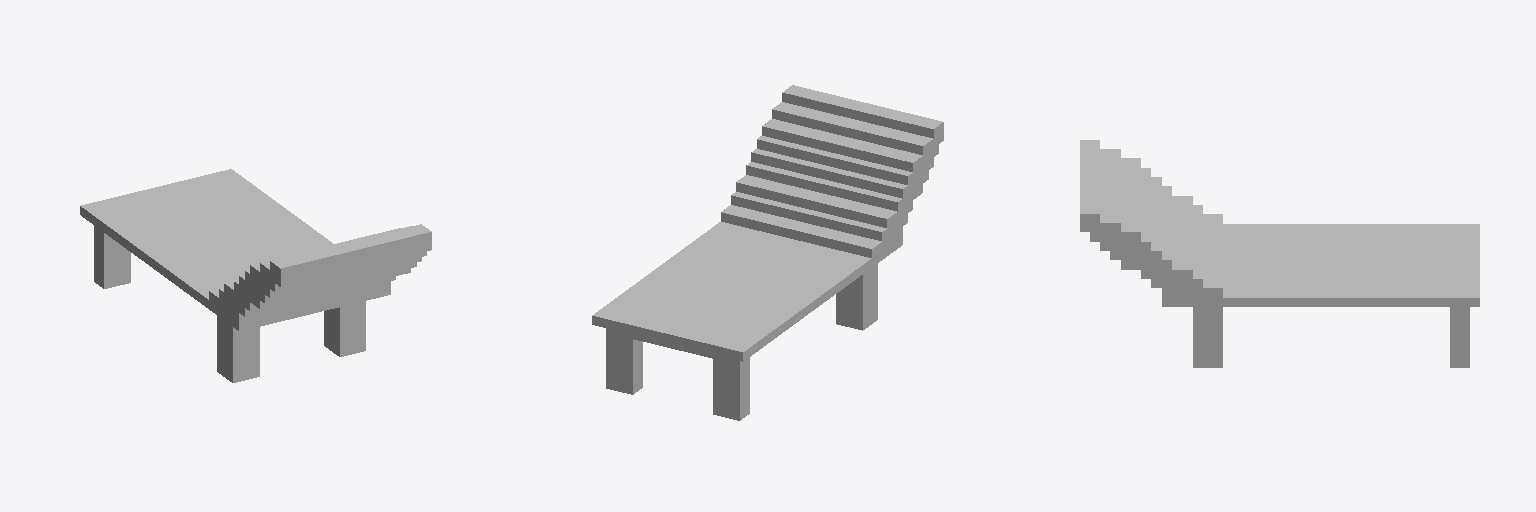
The model's file is sunbed.obj.
3 views of the same model, side by side, from view 1: azimuth 30°, elevation 25°; view 2: azimuth 150°, elevation 25°; view 3: azimuth 270°, elevation 25° (orthographic).
Visible parts, largest first — view 1: object 1; view 2: object 1; view 3: object 1.
Boxes of the visible parts, x1=… form: object 1: x1=80, y1=169, x2=431, y2=382; object 1: x1=592, y1=85, x2=943, y2=420; object 1: x1=1080, y1=140, x2=1479, y2=367.
Size of the model in its own units: 1.7 by 1.7 by 3.9.